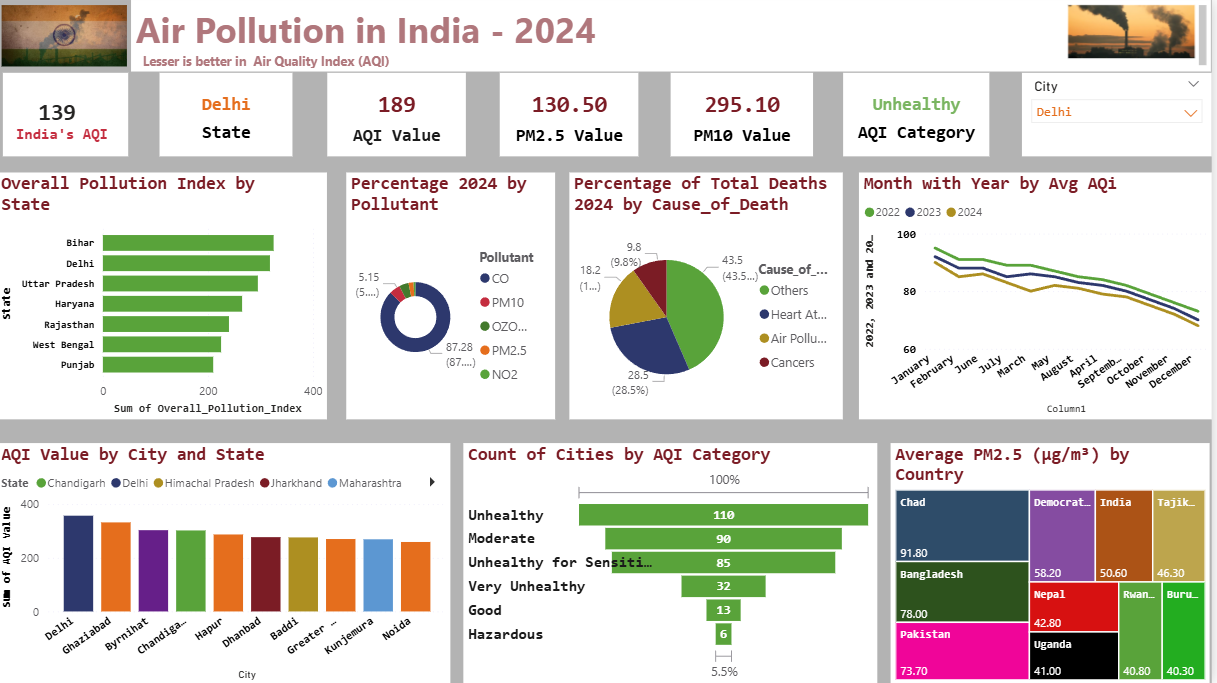

Layout of this report page (visuals, bound fields, positions):
{"tool":"powerbi","page":{"name":"Page 1","canvas":[1280,720],"ordinal":0},"visuals":[{"type":"image","box":[0,0,142.5,75],"z":0},{"type":"textbox","box":[141.7,0,1137.6,75.6],"z":1000},{"type":"textbox","box":[6,76,132,88],"z":2000},{"type":"donutChart","title":"      Percentage 2024 by          Pollutant","fields":{"Category":["Pollution element contribution02.Pollutant"],"Y":["Sum(Pollution element contribution02.Percentage_Contribution_By_Mass_2024)"]},"box":[368,182,220,260],"z":3000},{"type":"slicer","fields":{"Values":["Cities and AQI.City"]},"box":[1080,76,200,88],"z":4000},{"type":"image","box":[1110,0,170,66],"z":5000},{"type":"card","fields":{"Values":["Sum(Cities and AQI.AQI)"]},"box":[348,76,146,88],"z":6000},{"type":"card","title":"State","fields":{"Values":["Min(Cities and AQI.State)"]},"box":[172,76,140,88],"z":7000},{"type":"card","fields":{"Values":["Sum(Cities and AQI.PM10_Value)"]},"box":[710,76,150,88],"z":8000},{"type":"card","fields":{"Values":["Min(Cities and AQI.AQI_Category)"]},"box":[892,76,154,88],"z":9000},{"type":"card","fields":{"Values":["Sum(Cities and AQI.PM2_5_Value)"]},"box":[530,76,146,88],"z":10000},{"type":"pieChart","title":"Percentage of Total Deaths 2024 by Cause_of_Death","fields":{"Category":["Death data 2024.Cause_of_Death"],"Y":["Sum(Death data 2024.Percentage_of_Total_Deaths_2024)"]},"box":[604,182,288,260],"z":11000},{"type":"barChart","title":" Overall Pollution Index by State","fields":{"Y":["Sum(States leading air pollution.Overall_Pollution_Index)"],"Category":["States leading air pollution.State"]},"box":[0,182,348,260],"z":12000},{"type":"funnel","title":"Count of Cities by AQI Category","fields":{"Category":["funnel data of AQI0.AQI Category"],"Y":["Sum(funnel data of AQI0.Count of Cities)"]},"box":[492,466,436,254],"z":13000},{"type":"columnChart","title":"AQI Value by City and State","fields":{"Y":["Sum(AQI based on cities0 wise.AQI Value)"],"Category":["AQI based on cities0 wise.City"],"Series":["AQI based on cities0 wise.State"]},"box":[0,466,478,254],"z":14000},{"type":"lineChart","title":"Month with Year by Avg AQi","fields":{"Category":["Line graph chart 2024.Column1"],"Y":["Sum(Line graph chart 2024.Column2)","Sum(Line graph chart 2024.Column3)","Sum(Line graph chart 2024.Column4)"]},"box":[908,182,372,260],"z":15000},{"type":"treemap","title":"Average PM2.5 (µg/m³) by Country","fields":{"Group":["Treemap Chart of countries.Country"],"Values":["Sum(Treemap Chart of countries. Average PM2.5 (µg/m³))"]},"box":[942,466,336,254],"z":16000}]}

Visuals, with their boxes in screenshot pixels (x1, y1, x2, y2), scaled from the page's 1280x720 canvas onto the 1217x683 screenshot:
image: l=0, t=0, r=135, b=71
textbox: l=135, t=0, r=1216, b=72
textbox: l=6, t=72, r=131, b=156
"      Percentage 2024 by          Pollutant" donutChart: l=350, t=173, r=559, b=419
slicer - Cities and AQI.City: l=1027, t=72, r=1216, b=156
image: l=1055, t=0, r=1216, b=63
card - Sum(Cities and AQI.AQI): l=331, t=72, r=470, b=156
"State" card: l=164, t=72, r=297, b=156
card - Sum(Cities and AQI.PM10_Value): l=675, t=72, r=818, b=156
card - Min(Cities and AQI.AQI_Category): l=848, t=72, r=995, b=156
card - Sum(Cities and AQI.PM2_5_Value): l=504, t=72, r=643, b=156
"Percentage of Total Deaths 2024 by Cause_of_Death" pieChart: l=574, t=173, r=848, b=419
" Overall Pollution Index by State" barChart: l=0, t=173, r=331, b=419
"Count of Cities by AQI Category" funnel: l=468, t=442, r=882, b=682
"AQI Value by City and State" columnChart: l=0, t=442, r=454, b=682
"Month with Year by Avg AQi" lineChart: l=863, t=173, r=1216, b=419
"Average PM2.5 (µg/m³) by Country" treemap: l=896, t=442, r=1215, b=682
